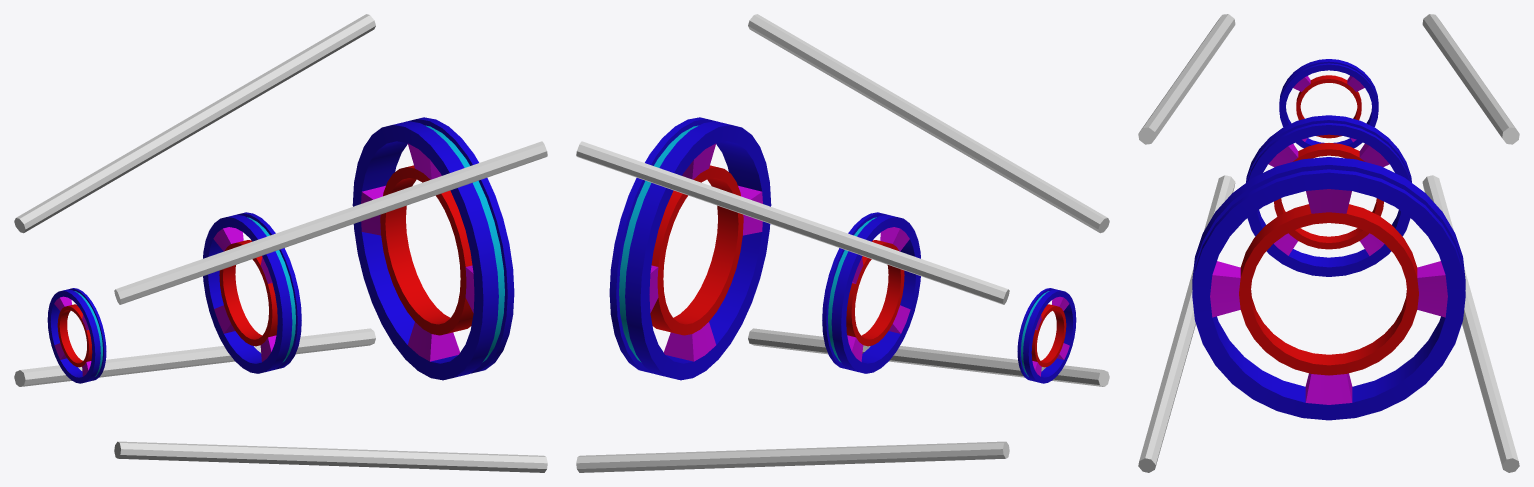
File: Warp_Ring.fbx
3 renders of one model, left to right at view 1: azimuth 30°, elevation 25°; view 2: azimuth 150°, elevation 25°; view 3: azimuth 270°, elevation 25°, orthographic. The views are drawn at different scales.
Visible parts, largest first — view 1: Warp_Tubes, Warp_Ring_1, Warp_Ring_2, Warp_Ring_3; view 2: Warp_Tubes, Warp_Ring_1, Warp_Ring_2, Warp_Ring_3; view 3: Warp_Ring_1, Warp_Tubes, Warp_Ring_2, Warp_Ring_3.
Part boxes in pixels (box(x1,y1,x2,y2)): Warp_Tubes: box(14, 14, 547, 472); Warp_Ring_1: box(352, 117, 514, 380); Warp_Ring_2: box(203, 212, 301, 373); Warp_Ring_3: box(47, 288, 106, 383); Warp_Tubes: box(576, 14, 1109, 472); Warp_Ring_1: box(609, 117, 771, 380); Warp_Ring_2: box(822, 212, 920, 373); Warp_Ring_3: box(1017, 288, 1076, 383); Warp_Ring_1: box(1192, 157, 1465, 420); Warp_Tubes: box(1138, 14, 1519, 472); Warp_Ring_2: box(1246, 115, 1411, 276); Warp_Ring_3: box(1279, 59, 1378, 148).
Bounding box in the file's own units: 26949 × 21690 × 21704.
